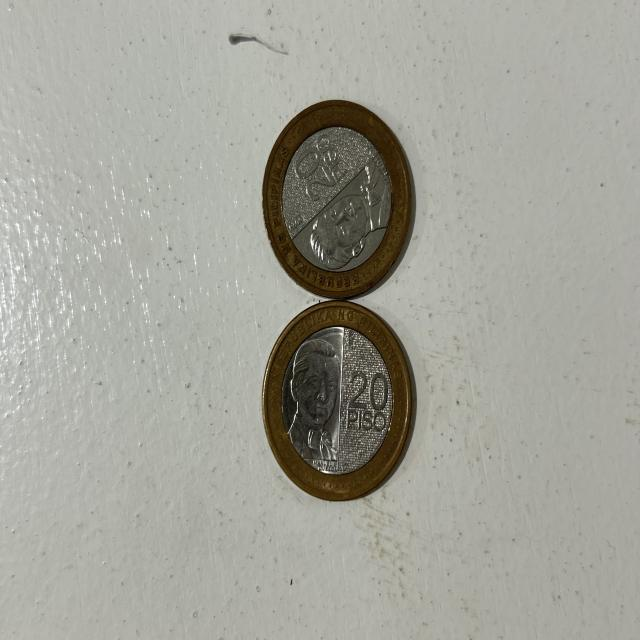20_New_Front: (348, 365, 389, 413), (293, 151, 332, 200)
